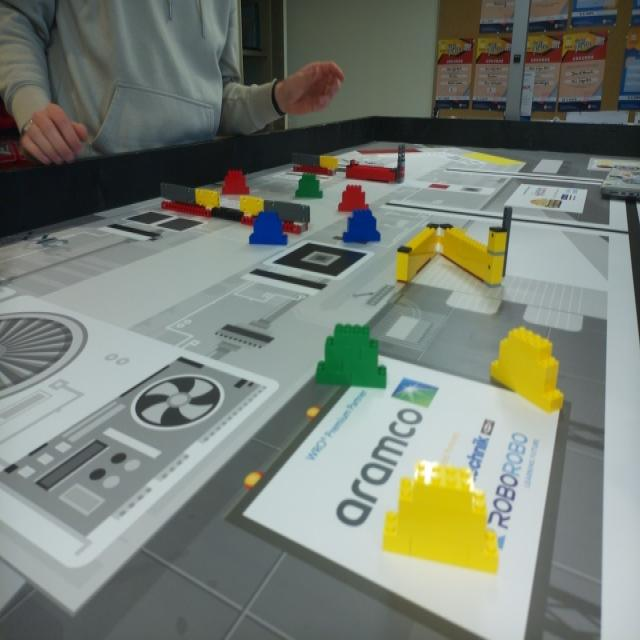blau: (251, 215, 288, 247), (346, 211, 381, 242)
gruen: (314, 320, 386, 388), (298, 173, 321, 199)
rot: (338, 187, 368, 210), (223, 170, 249, 194)
yellow: (386, 457, 498, 577), (488, 327, 565, 413)
